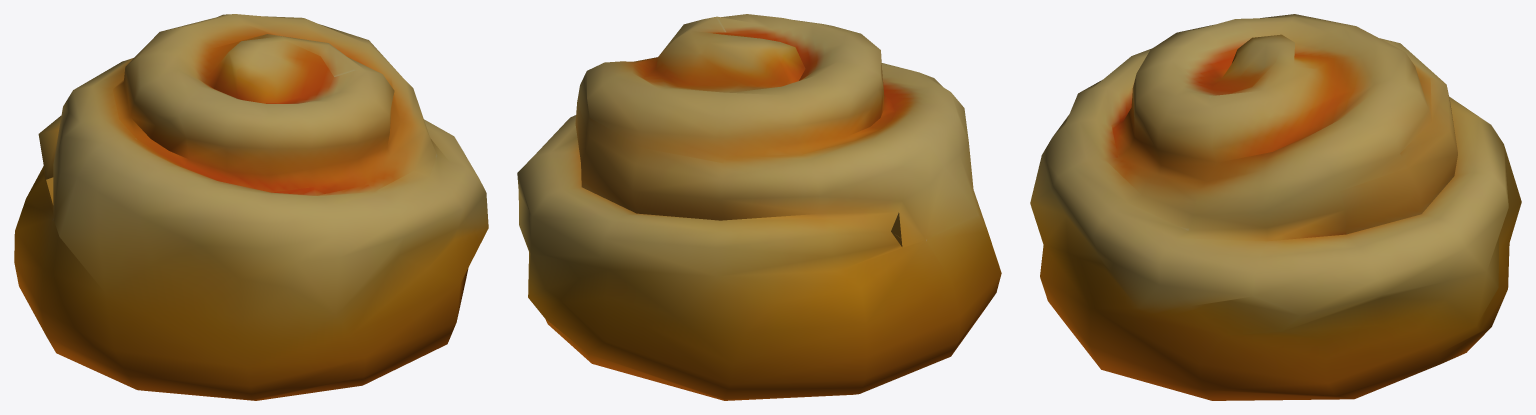
Rendered from CinnamonRoll.glb.
3 views of the same model, side by side, from view 1: azimuth 30°, elevation 25°; view 2: azimuth 150°, elevation 25°; view 3: azimuth 270°, elevation 25° (orthographic). The views are drawn at different scales.
Parts seen in each view (by area): view 1: geometry_0; view 2: geometry_0; view 3: geometry_0.
Part boxes in pixels (x1,y1,x2,y2): geometry_0: (14,14,488,400); geometry_0: (517,14,1001,400); geometry_0: (1030,14,1521,400).
Size of the model in its own units: 0.986 by 0.6285 by 0.984.
Materials: 1 (1 with a texture image).
